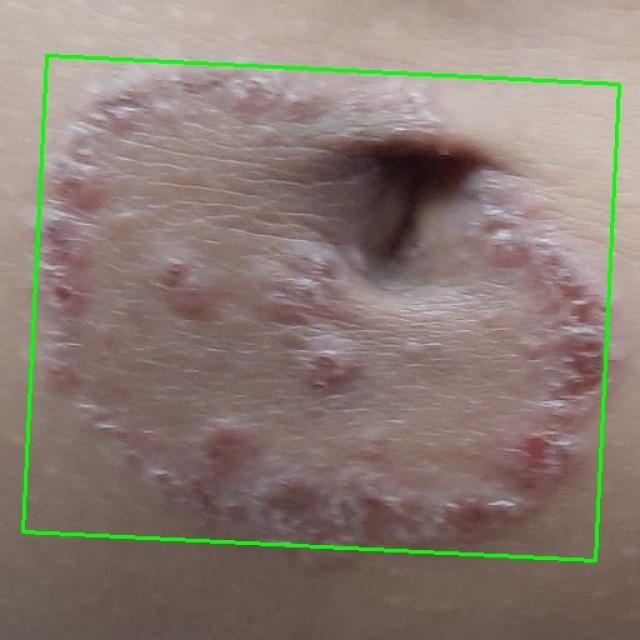Tinea Corporis: (24, 55, 619, 561)
